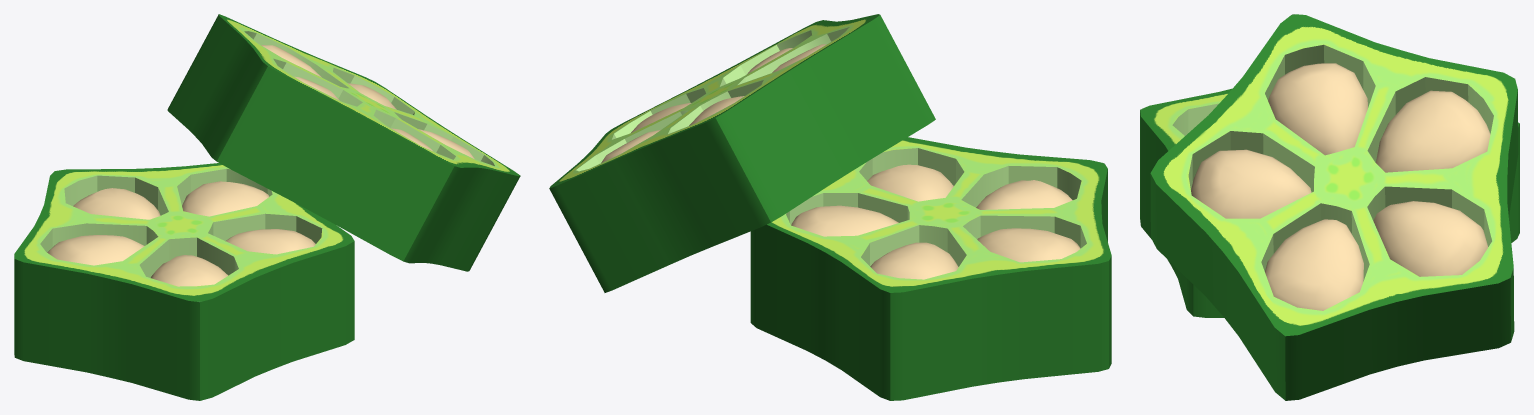
Rendered from OKURA.fbx.
3 renders of one model, left to right at view 1: azimuth 30°, elevation 25°; view 2: azimuth 150°, elevation 25°; view 3: azimuth 270°, elevation 25°, orthographic. The views are drawn at different scales.
Visible parts, largest first — view 1: OKURA_0516:OKURA1, OKURA_0516:OKURA2, OKURA_0516:seed5, OKURA_0516:seed, OKURA_0516:seed9, OKURA_0516:seed1, OKURA_0516:seed6; view 2: OKURA_0516:OKURA1, OKURA_0516:OKURA2, OKURA_0516:seed, OKURA_0516:seed5, OKURA_0516:seed9, OKURA_0516:seed6, OKURA_0516:seed1; view 3: OKURA_0516:OKURA2, OKURA_0516:seed16, OKURA_0516:seed, OKURA_0516:seed15, OKURA_0516:seed17, OKURA_0516:seed10, OKURA_0516:OKURA1.
Part boxes in pixels (left/top/right/bottom): OKURA_0516:OKURA1: left=14, top=163, right=354, bottom=400; OKURA_0516:OKURA2: left=167, top=14, right=520, bottom=271; OKURA_0516:seed5: left=182, top=181, right=269, bottom=216; OKURA_0516:seed: left=47, top=235, right=144, bottom=265; OKURA_0516:seed9: left=73, top=188, right=160, bottom=219; OKURA_0516:seed1: left=151, top=255, right=227, bottom=286; OKURA_0516:seed6: left=225, top=229, right=315, bottom=254; OKURA_0516:OKURA1: left=750, top=137, right=1111, bottom=400; OKURA_0516:OKURA2: left=549, top=14, right=935, bottom=292; OKURA_0516:seed: left=977, top=228, right=1080, bottom=262; OKURA_0516:seed5: left=791, top=205, right=898, bottom=236; OKURA_0516:seed9: left=870, top=242, right=958, bottom=279; OKURA_0516:seed6: left=867, top=164, right=953, bottom=201; OKURA_0516:seed1: left=976, top=180, right=1072, bottom=209; OKURA_0516:OKURA2: left=1150, top=14, right=1518, bottom=400; OKURA_0516:seed16: left=1375, top=90, right=1490, bottom=172; OKURA_0516:seed: left=1265, top=219, right=1363, bottom=310; OKURA_0516:seed15: left=1268, top=63, right=1367, bottom=155; OKURA_0516:seed17: left=1373, top=201, right=1488, bottom=276; OKURA_0516:seed10: left=1191, top=149, right=1311, bottom=218; OKURA_0516:OKURA1: left=1140, top=88, right=1519, bottom=317.
Bounding box in the file's own units: 127 × 63.94 × 78.25.
